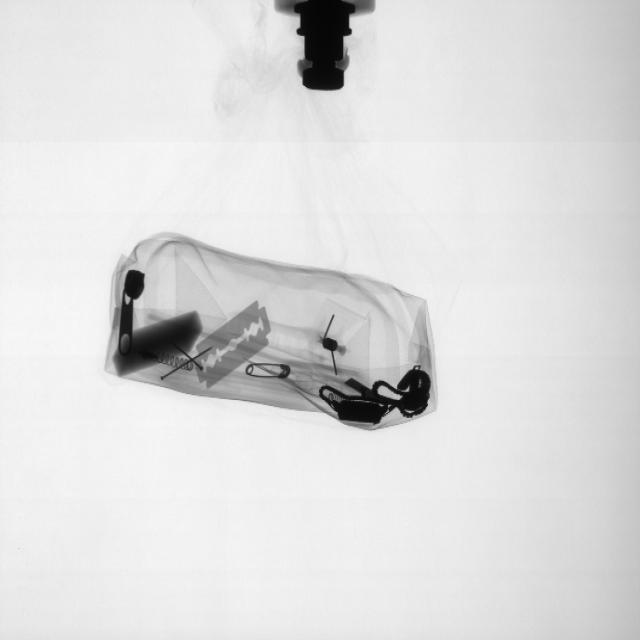BLADE: (194, 298, 274, 391)
